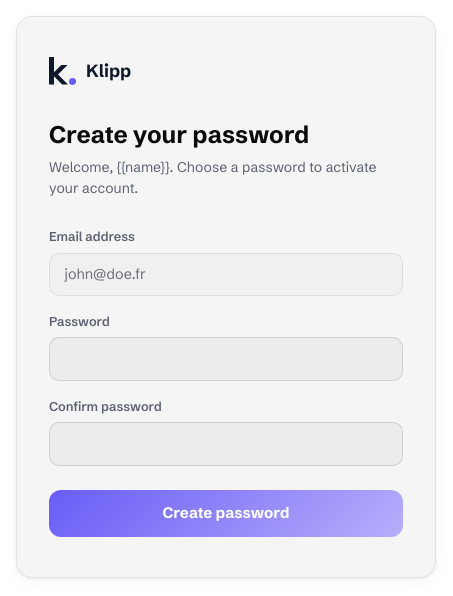
Test: SetPasswordPage › sets the password for a valid invitation
The width and height of the screenshot is (453, 596).
Expected: the heading "Create your password" is shown, [49,120,309,150]
Type "secret123" into the password field with id "set-password" at (226, 359), box [49,337,403,381]
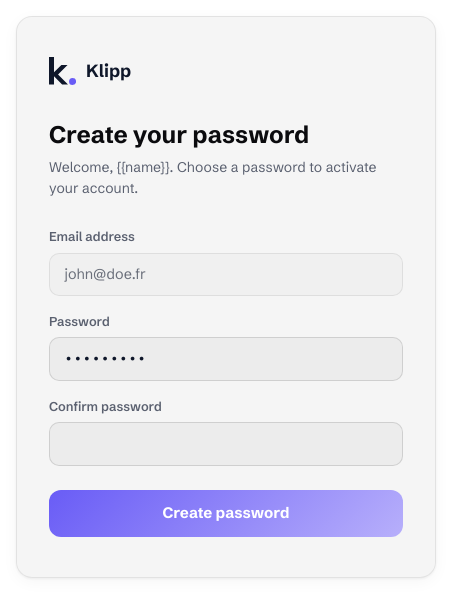
Type "secret123" into the password field with id "set-password-confirm" at (226, 444), box [49,422,403,466]
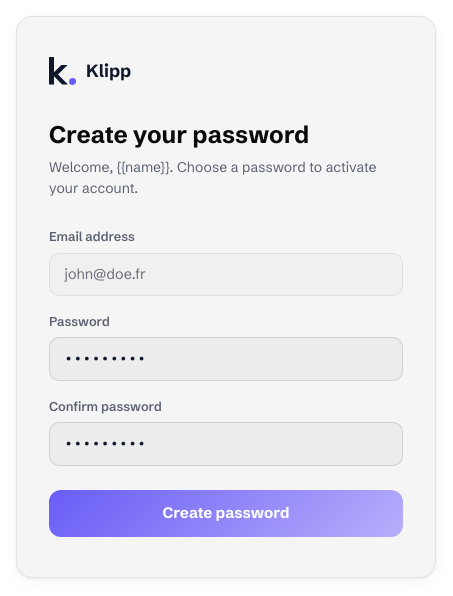
Click the button "Create password" at (226, 513), box [49,490,403,537]
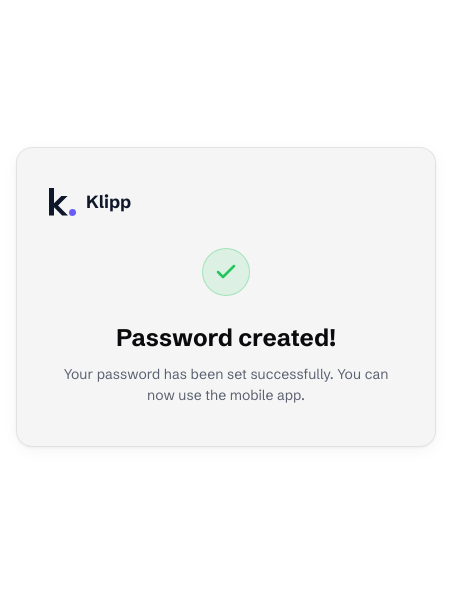
Result: the heading "Password created!" is shown at [116,323,336,352]
